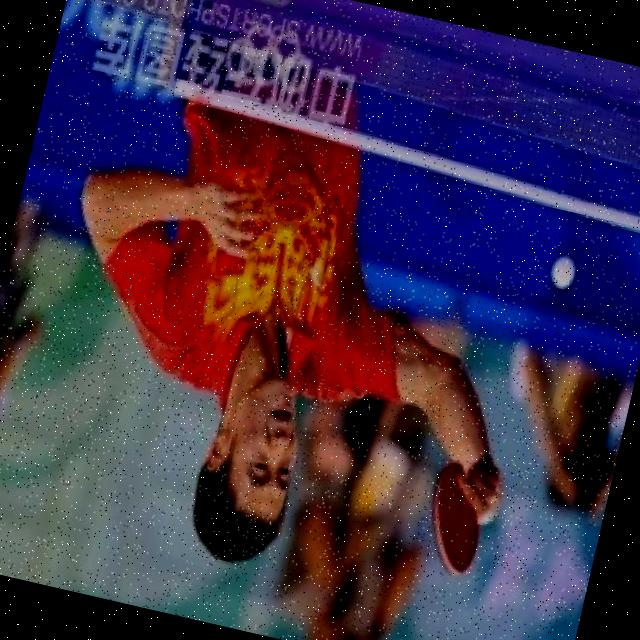ping-pong-ball: (549, 250, 581, 288)
